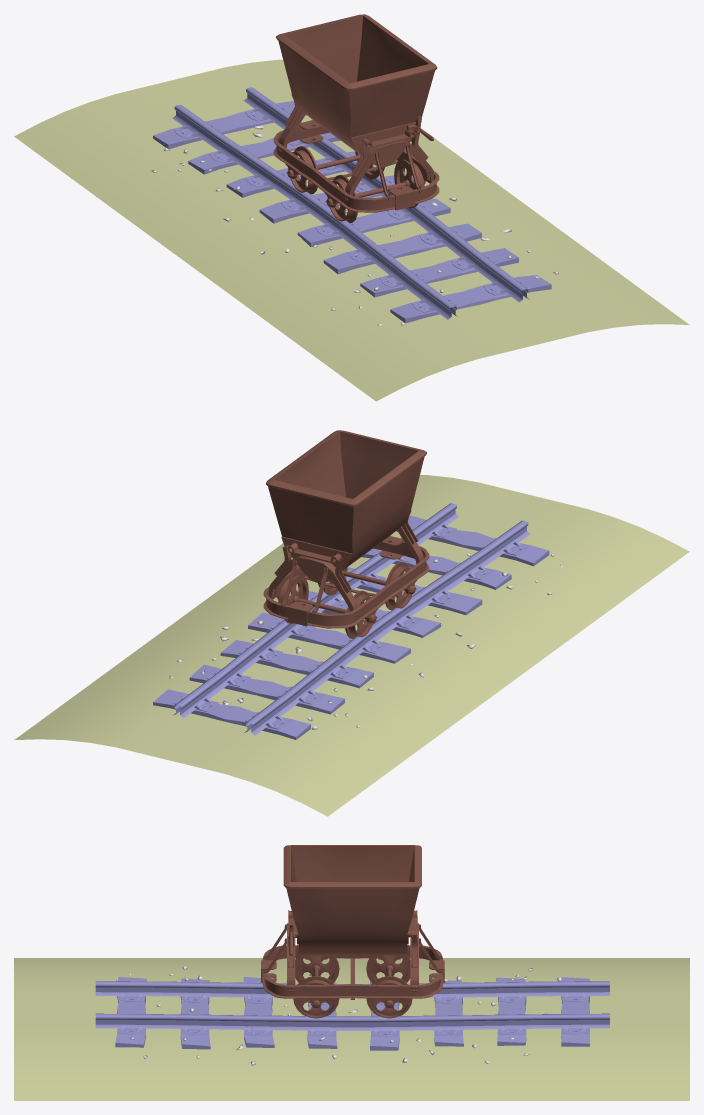
The model's file is minecart.fbx.
3 views of the same model, one above another, from view 1: azimuth 30°, elevation 25°; view 2: azimuth 150°, elevation 25°; view 3: azimuth 270°, elevation 25° (orthographic). The views are drawn at different scales.
Visible parts, largest first — view 1: GravelRails_RailTrackBase_Low, GravelRails_RailTrackBase_Low.001, Plane.000, GravelRails_RailTrack, GravelRails_GravelStone3_004; view 2: GravelRails_RailTrackBase_Low.001, GravelRails_RailTrackBase_Low, Plane.000, GravelRails_RailTrack, GravelRails_GravelStone3_004; view 3: GravelRails_RailTrackBase_Low.001, GravelRails_RailTrackBase_Low, Plane.000, GravelRails_RailTrack, GravelRails_GravelStone3_004.
Boxes of the visible parts, x1,y1,x2,y2 form: GravelRails_RailTrackBase_Low: (195,191,689,401); GravelRails_RailTrackBase_Low.001: (14,59,508,268); Plane.000: (273,14,439,222); GravelRails_RailTrack: (153,87,551,323); GravelRails_GravelStone3_004: (151,125,558,325); GravelRails_RailTrackBase_Low.001: (14,606,508,816); GravelRails_RailTrackBase_Low: (195,474,689,683); Plane.000: (263,430,429,638); GravelRails_RailTrack: (153,503,549,739); GravelRails_GravelStone3_004: (169,552,563,729); GravelRails_RailTrackBase_Low.001: (351,958,689,1100); GravelRails_RailTrackBase_Low: (14,958,351,1100); Plane.000: (261,845,444,1018); GravelRails_RailTrack: (95,977,609,1050); GravelRails_GravelStone3_004: (116,966,561,1065).
Bounding box in the file's own units: 197 × 108 × 394.
